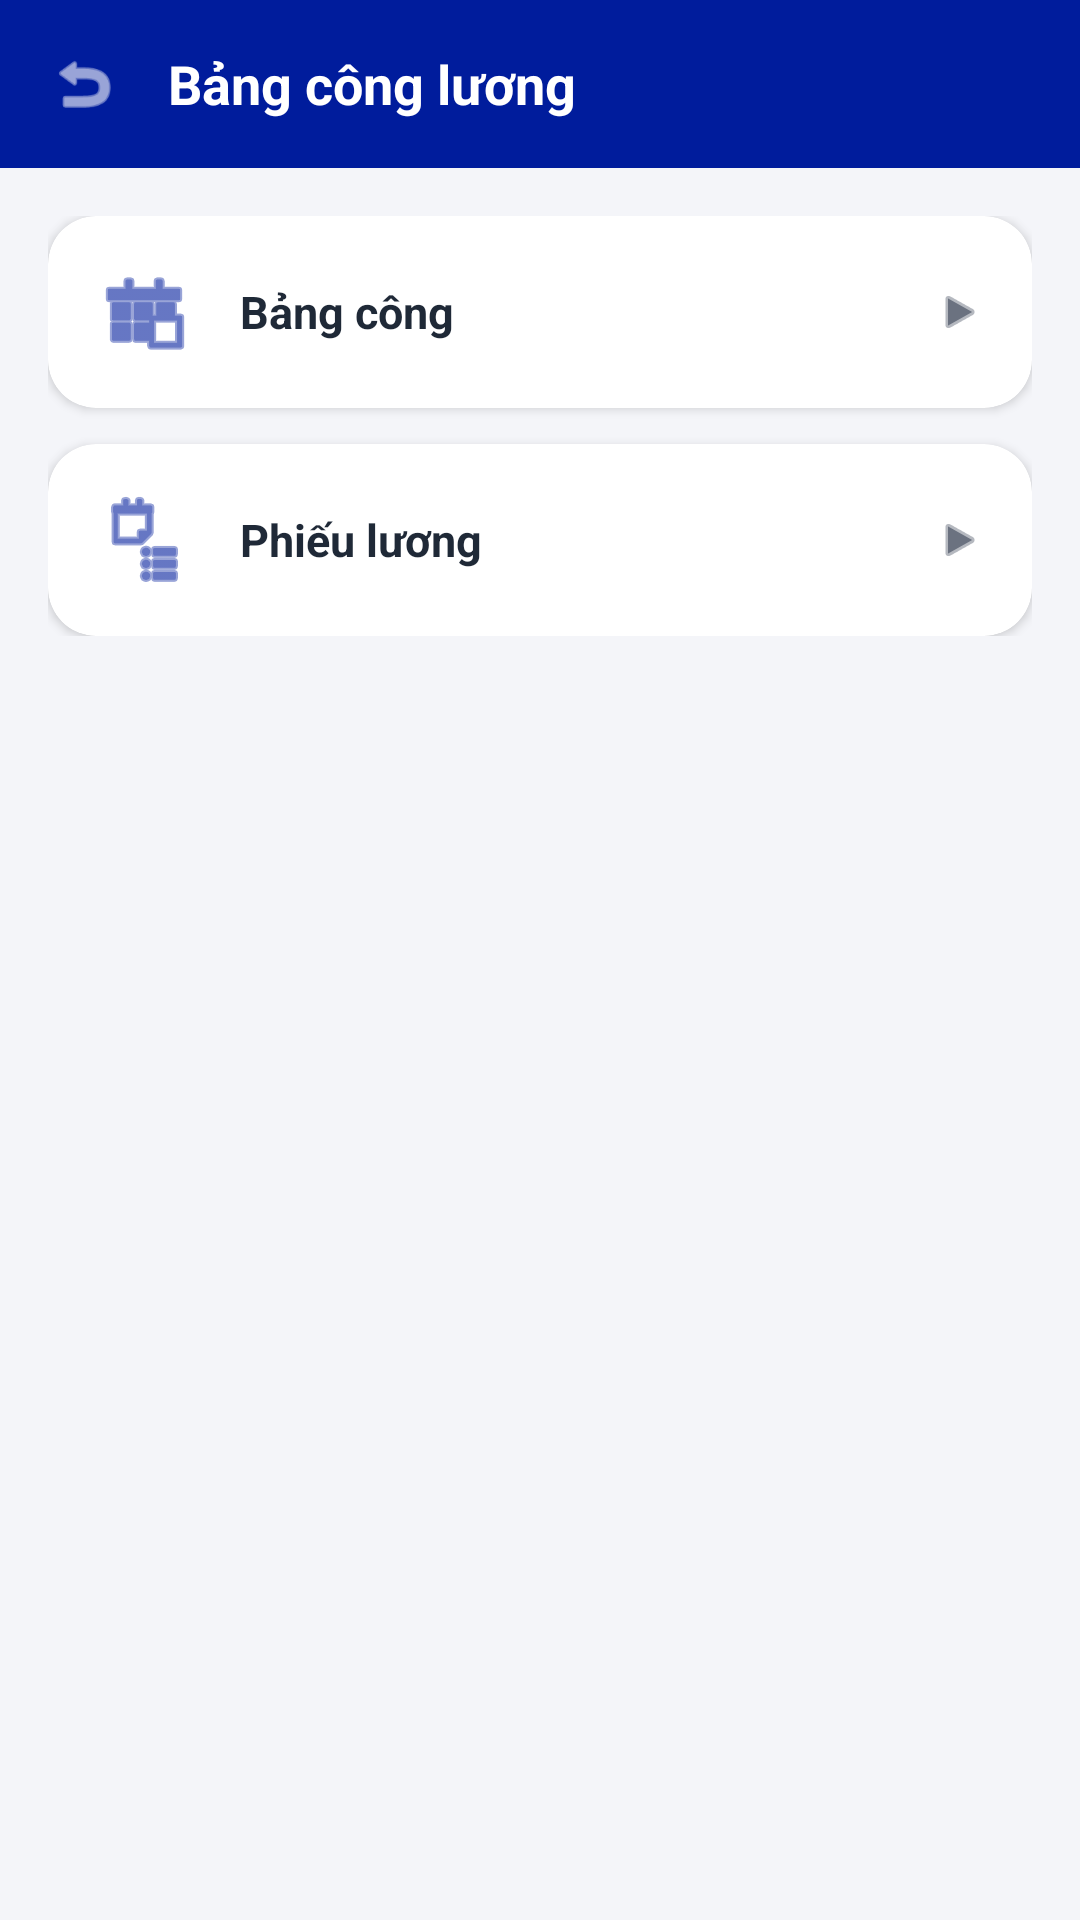

Icons on this 1080×1920 Android screen, each with the point to tap as (x=x, y=y):
agenda: (x=144, y=539)
play: (x=960, y=312), (x=960, y=540)
revert: (x=85, y=84)
today: (x=145, y=313)
